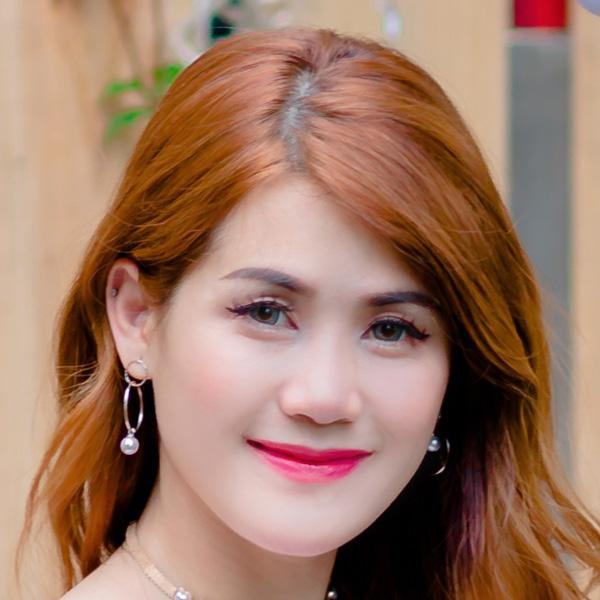Eyes: (225, 287, 303, 341), (354, 308, 431, 359)
